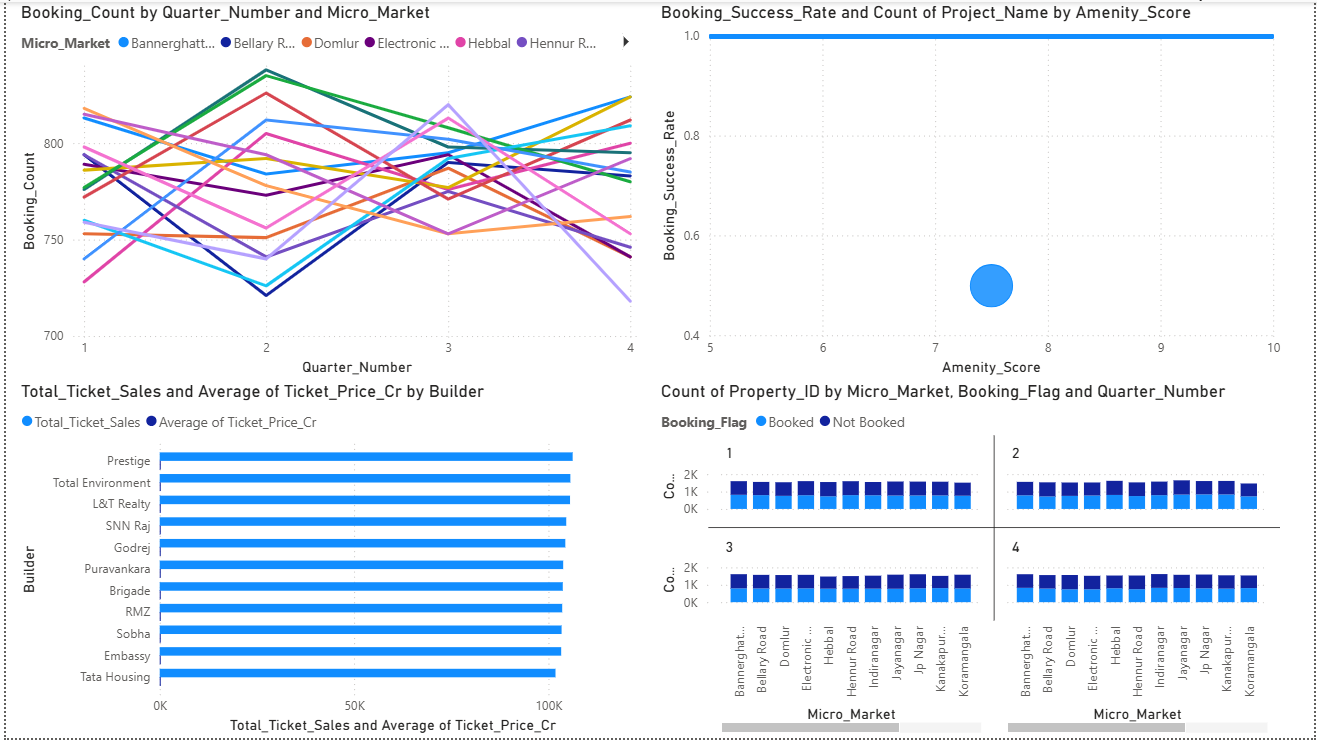

The page's visual inventory and layout, read from the dashboard file:
{"tool":"powerbi","page":{"name":"Page 1","canvas":[1280,720],"ordinal":0},"visuals":[{"type":"lineChart","fields":{"Category":["luxury_housing luxury_housing.Quarter_Number"],"Y":["luxury_housing luxury_housing.Booking Count"],"Series":["luxury_housing luxury_housing.Micro_Market"]},"box":[9.6,0,616.1,370.5],"z":0},{"type":"clusteredBarChart","fields":{"Category":["luxury_housing luxury_housing.Builder"],"Y":["luxury_housing luxury_housing.Total_Ticket_Sales","Avg(luxury_housing luxury_housing.Ticket_Price_Cr)"]},"box":[9.6,370.5,616.1,349.9],"z":1000},{"type":"scatterChart","fields":{"X":["luxury_housing luxury_housing.Amenity_Score"],"Y":["luxury_housing luxury_housing.Booking_Success_Rate"],"Size":["Count(luxury_housing luxury_housing.Project_Name)"]},"box":[636,0,616,370],"z":2000},{"type":"columnChart","fields":{"Category":["luxury_housing luxury_housing.Micro_Market"],"Y":["CountNonNull(luxury_housing luxury_housing.Property_ID)"],"Series":["luxury_housing luxury_housing.Booking_Flag"],"Rows":["luxury_housing luxury_housing.Quarter_Number"]},"box":[636,370,616,350],"z":3000}]}

Visuals, with their boxes in screenshot pixels (x1, y1, x2, y2), scaled from the page's 1280x720 canvas onto the 1317x742 screenshot:
lineChart - luxury_housing luxury_housing.Quarter_Number x luxury_housing luxury_housing.Booking Count: [x1=10, y1=0, x2=644, y2=382]
clusteredBarChart - luxury_housing luxury_housing.Builder x luxury_housing luxury_housing.Total_Ticket_Sales: [x1=10, y1=382, x2=644, y2=741]
scatterChart - luxury_housing luxury_housing.Amenity_Score x luxury_housing luxury_housing.Booking_Success_Rate: [x1=654, y1=0, x2=1288, y2=381]
columnChart - luxury_housing luxury_housing.Micro_Market x CountNonNull(luxury_housing luxury_housing.Property_ID): [x1=654, y1=381, x2=1288, y2=741]
